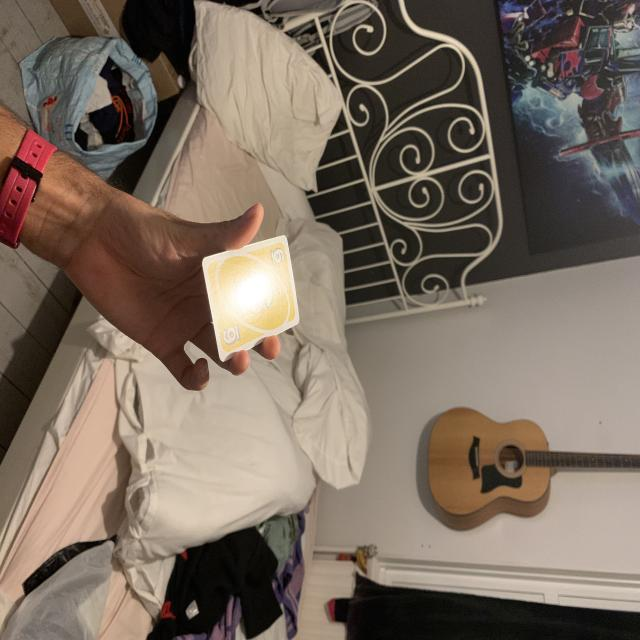lyellow-6: (267, 244, 288, 270)
